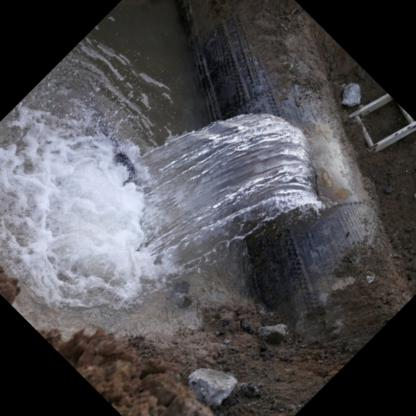burst: (288, 127, 345, 220)
